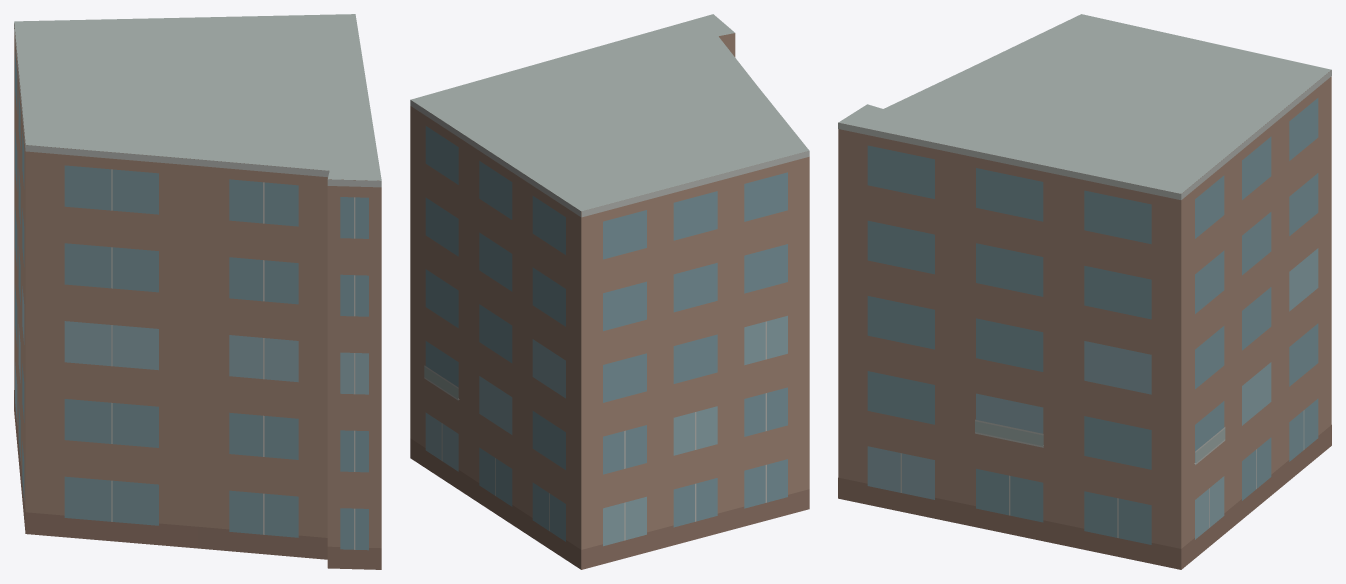
File: survey-upis-32971813.glb
3 views of the same model, side by side, from view 1: azimuth 30°, elevation 25°; view 2: azimuth 150°, elevation 25°; view 3: azimuth 270°, elevation 25° (orthographic). The views are drawn at different scales.
Visible parts, largest first — view 1: survey-upis-32971813.tmp; view 2: survey-upis-32971813.tmp; view 3: survey-upis-32971813.tmp.
Boxes of the visible parts, box(x1,y1,x2,y2) form: survey-upis-32971813.tmp: box(14, 14, 381, 569); survey-upis-32971813.tmp: box(410, 14, 809, 569); survey-upis-32971813.tmp: box(838, 14, 1331, 569).
Bounding box in the file's own units: 14.88 × 14.49 × 17.25.
